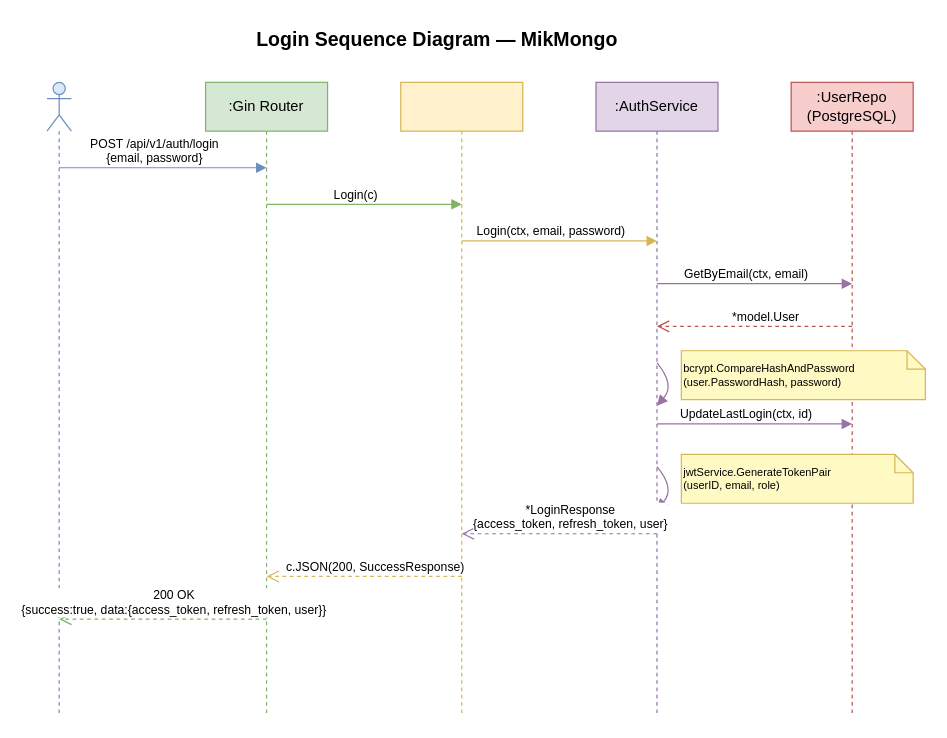
Image size: 947x738. Some labels were removed from this diagram. The shapes that lost their labels are listed below. From the top down, each one's box as (x1, y1, x2, y2) in pixels, then its label:
(46, 81, 71, 717): Client
(400, 81, 523, 717): :AuthHandler
